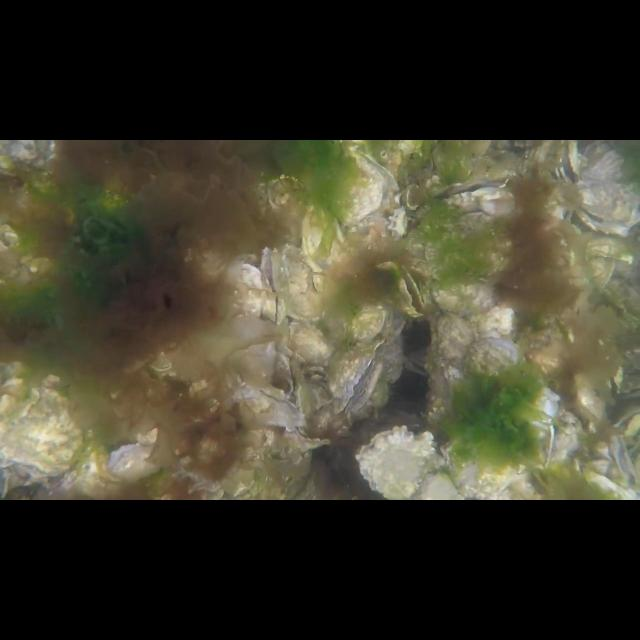Oyster-Closed: (456, 333, 562, 422), (440, 434, 540, 500), (328, 140, 386, 224), (433, 311, 477, 403), (300, 203, 352, 273), (232, 384, 306, 430), (282, 239, 322, 319), (431, 276, 501, 312), (286, 318, 332, 372), (0, 140, 60, 178), (234, 262, 270, 316), (583, 464, 637, 500), (411, 468, 464, 499), (583, 233, 635, 263), (582, 254, 616, 294)
Oyster-Open: (1, 374, 84, 478), (568, 148, 640, 236), (355, 424, 435, 501), (237, 342, 303, 411), (331, 336, 387, 414), (432, 179, 516, 229), (552, 366, 608, 438), (347, 300, 408, 348), (109, 426, 160, 474), (260, 245, 284, 323), (611, 434, 640, 486), (400, 268, 430, 316), (286, 422, 332, 452), (398, 348, 434, 380), (558, 140, 582, 186), (283, 452, 311, 486), (387, 205, 409, 242), (602, 364, 624, 398), (616, 407, 640, 438), (619, 385, 640, 402)
